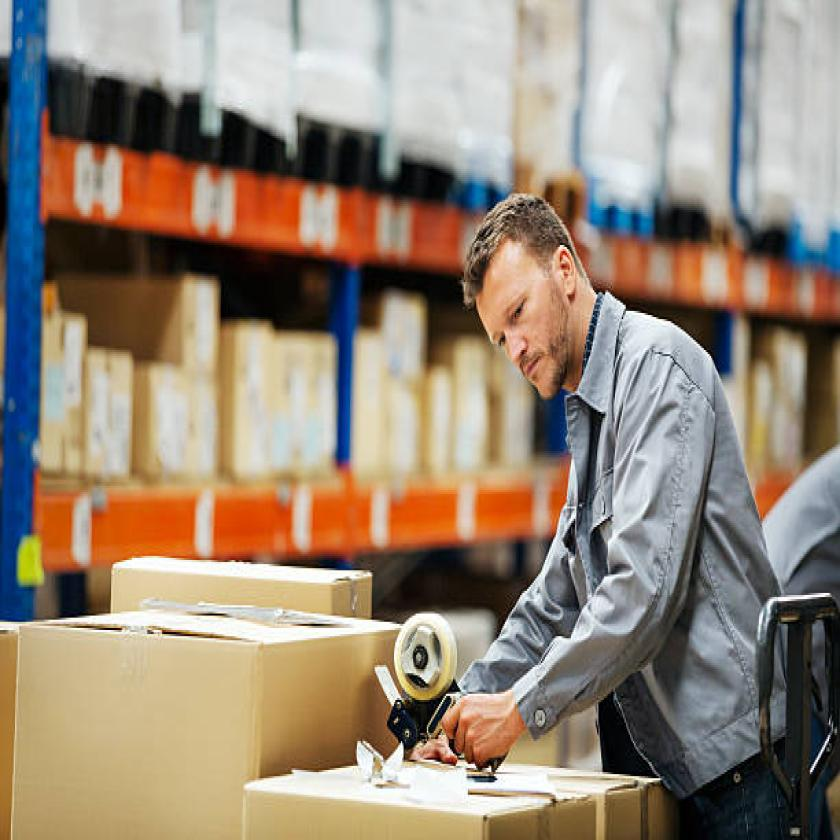Sin_casco: (459, 186, 592, 413)
